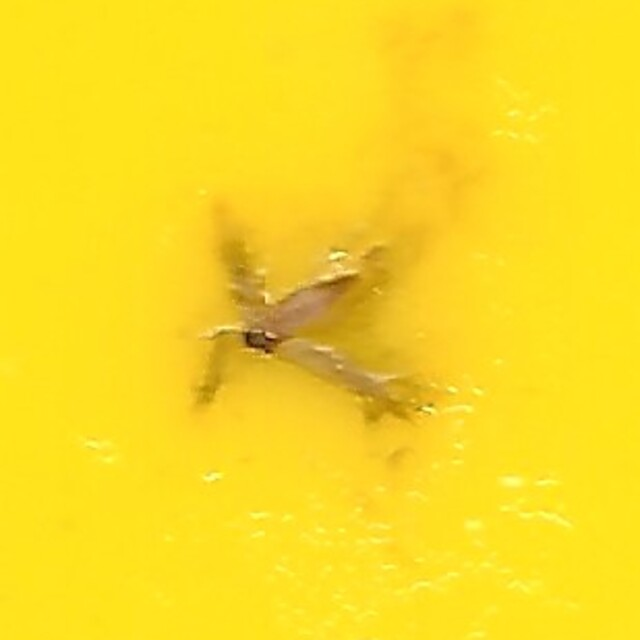Trichoptera: (207, 192, 433, 448)
